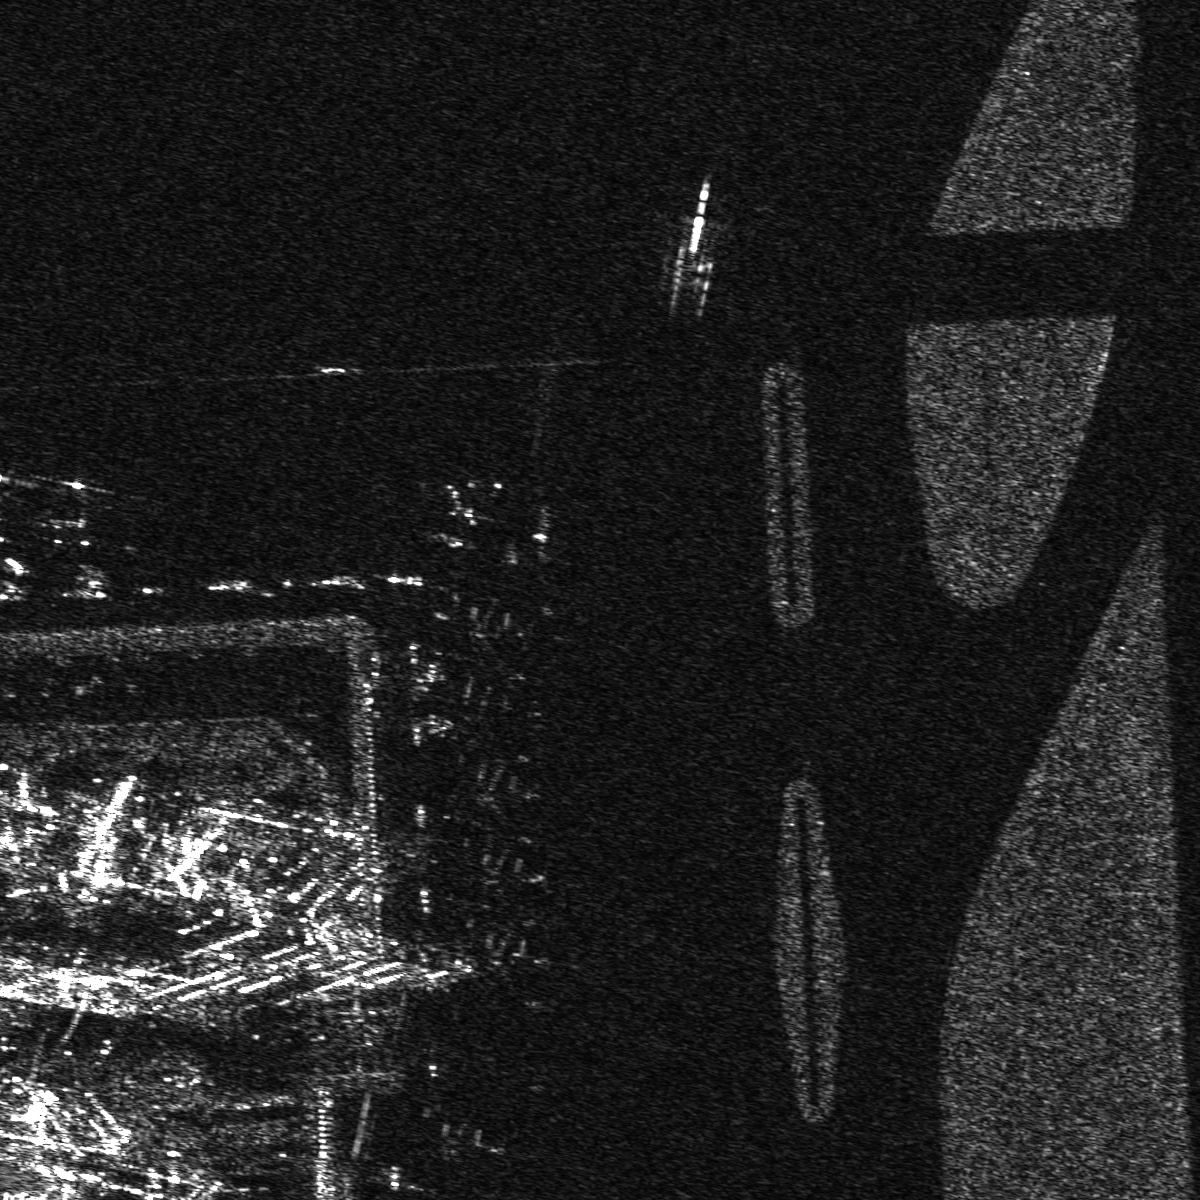A220: (448, 762, 549, 835), (462, 590, 544, 679), (486, 936, 584, 1009), (475, 848, 558, 926)
A320/321: (420, 467, 510, 533)
other: (30, 475, 101, 552)
